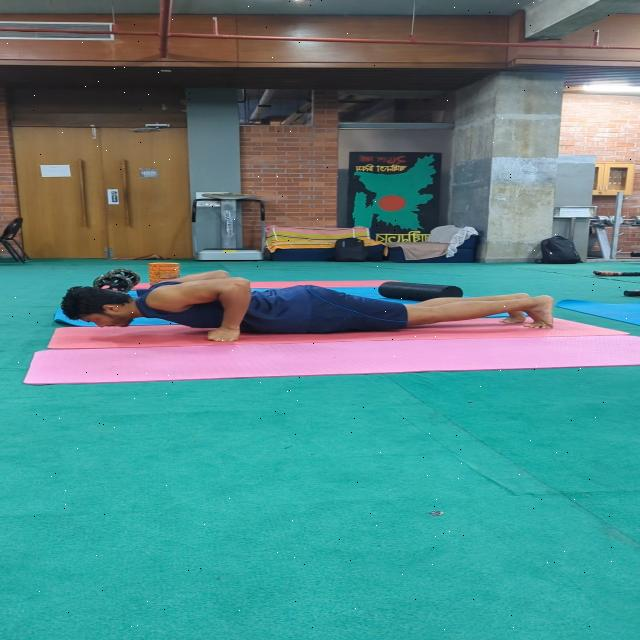Normal_PushUps: (36, 257, 584, 373)
